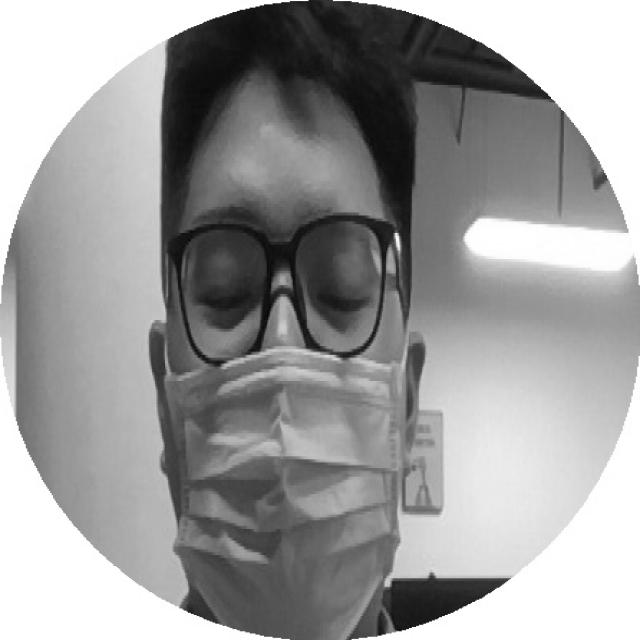fake: (167, 347, 402, 640)
real: (177, 243, 375, 338)
